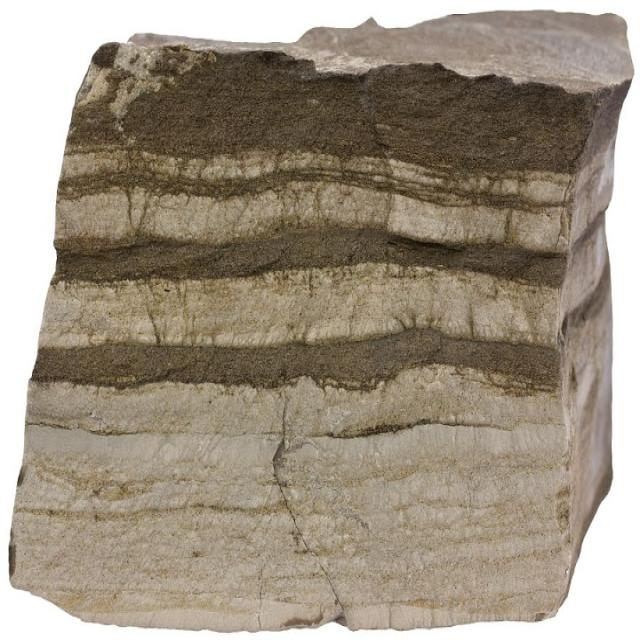Sedimentary: (6, 3, 626, 630)
